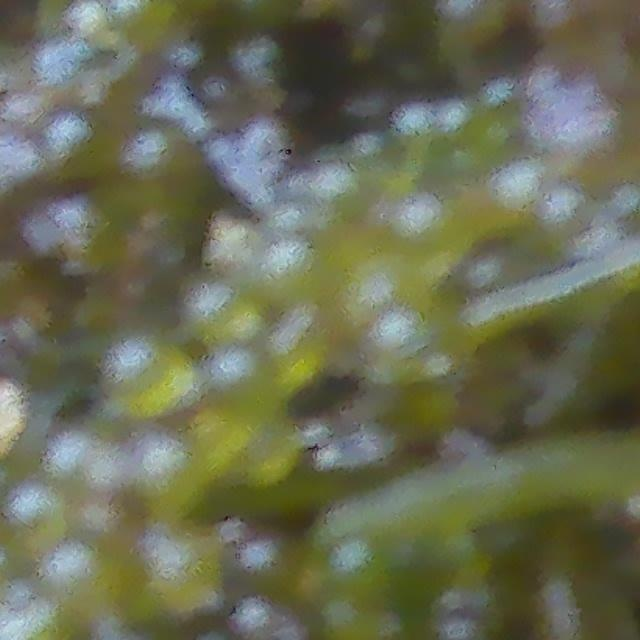SeaGrape: (124, 341, 203, 423), (136, 441, 208, 525), (148, 540, 229, 607), (262, 231, 327, 307), (373, 310, 443, 377), (235, 539, 301, 602), (52, 551, 117, 613), (15, 483, 76, 548)
